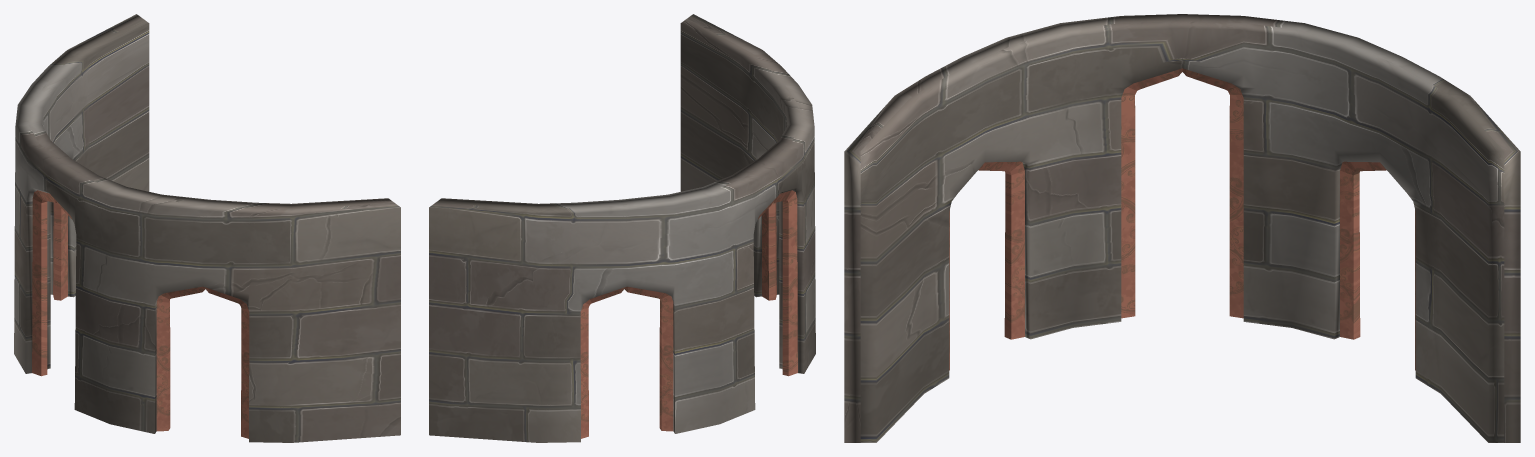
Rendered from wall_tower_window_top.fbx.
3 views of the same model, side by side, from view 1: azimuth 30°, elevation 25°; view 2: azimuth 150°, elevation 25°; view 3: azimuth 270°, elevation 25° (orthographic). The views are drawn at different scales.
Parts seen in each view (by area): view 1: tower_windows_bot:tower_windows_top, tower_windows_bot:tower_windows_bot:tower_windows_top_copper; view 2: tower_windows_bot:tower_windows_top, tower_windows_bot:tower_windows_bot:tower_windows_top_copper; view 3: tower_windows_bot:tower_windows_top, tower_windows_bot:tower_windows_bot:tower_windows_top_copper.
Part boxes in pixels (x1,y1,x2,y2): tower_windows_bot:tower_windows_top: [14, 14, 400, 442]; tower_windows_bot:tower_windows_bot:tower_windows_top_copper: [32, 190, 249, 438]; tower_windows_bot:tower_windows_top: [429, 14, 815, 442]; tower_windows_bot:tower_windows_bot:tower_windows_top_copper: [580, 190, 797, 438]; tower_windows_bot:tower_windows_top: [844, 14, 1520, 442]; tower_windows_bot:tower_windows_bot:tower_windows_top_copper: [949, 68, 1415, 370].
Size of the model in its own units: 5.06 by 5 by 10.51.
